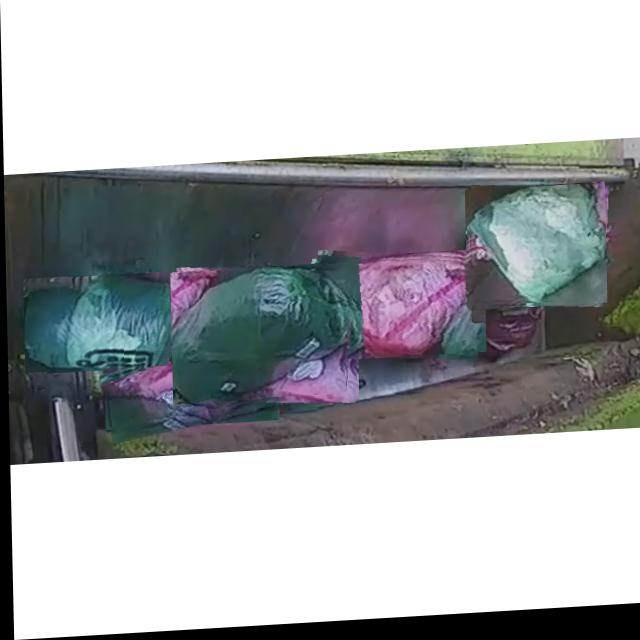general_trashbag: (171, 271, 352, 406), (468, 192, 605, 311), (24, 278, 168, 370)
other_trashbag: (316, 264, 482, 362), (103, 340, 274, 415)
